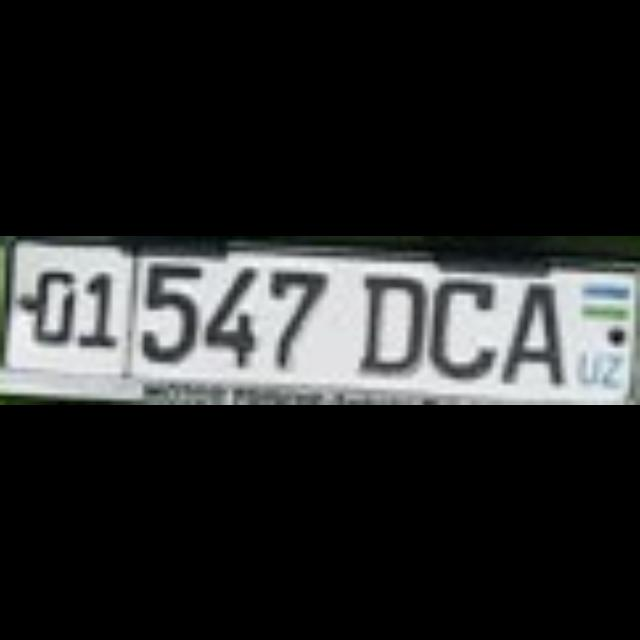0: (27, 261, 69, 335)
1: (75, 262, 112, 341)
4: (196, 262, 254, 356)
5: (138, 256, 196, 356)
7: (265, 262, 323, 362)
A: (497, 278, 555, 378)
C: (423, 272, 492, 372)
D: (354, 267, 424, 367)
